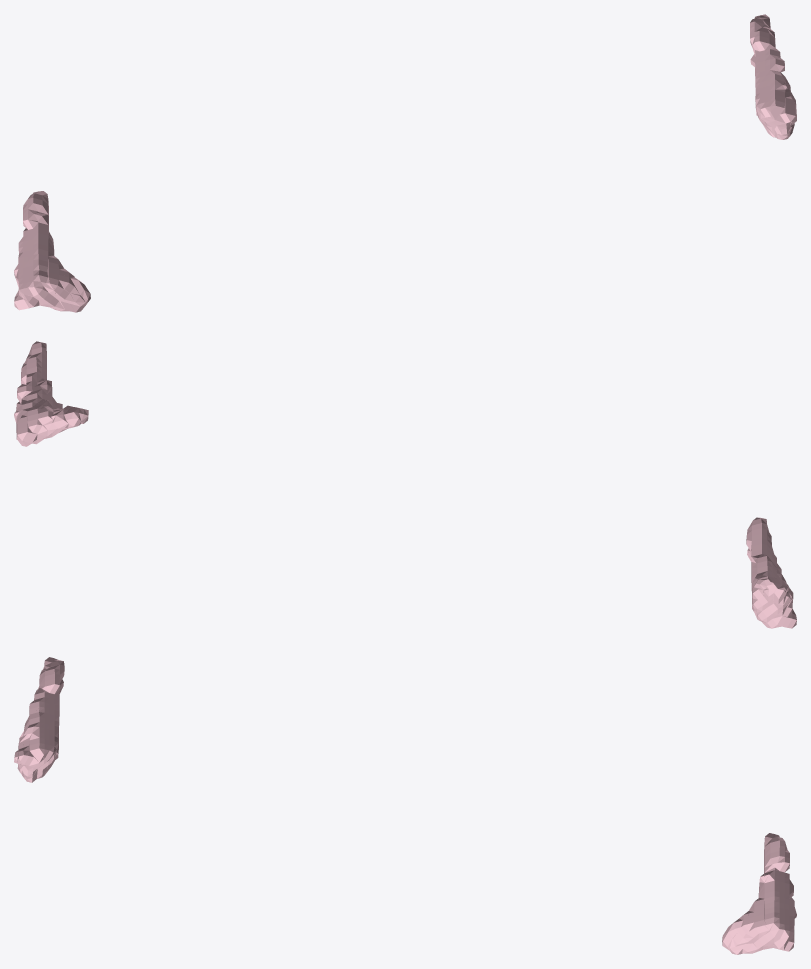
The model's file is VFB_00102108.glb.
The picture shows the model from 3 angles, top to bottom: view 1: azimuth 30°, elevation 25°; view 2: azimuth 150°, elevation 25°; view 3: azimuth 330°, elevation 25°; orthographic projection.
Visible parts, largest first — view 1: VFB_00102108; view 2: VFB_00102108; view 3: VFB_00102108.
Part boxes in pixels (x1,y1,x2,y2): VFB_00102108: [14, 14, 796, 312]; VFB_00102108: [14, 341, 796, 628]; VFB_00102108: [14, 657, 796, 954].
Size of the model in its own units: 0.326 by 0.0436 by 0.0313.
